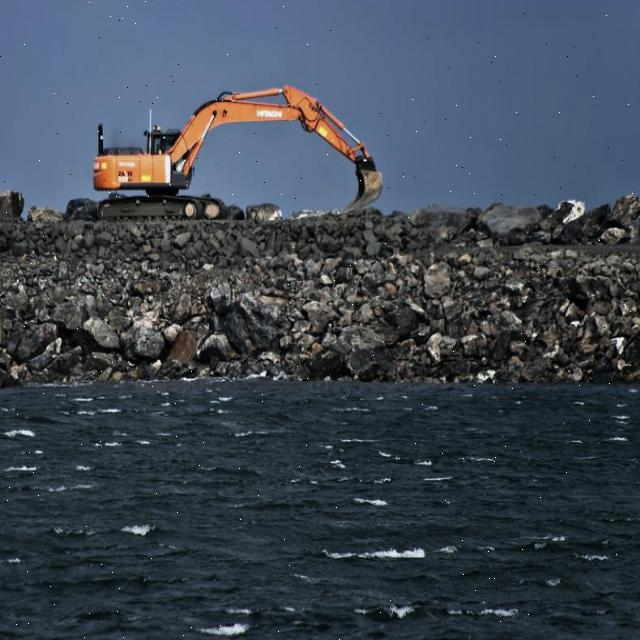Excavator: (95, 84, 384, 223)
